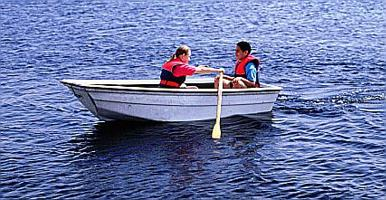person: (159, 46, 225, 90)
